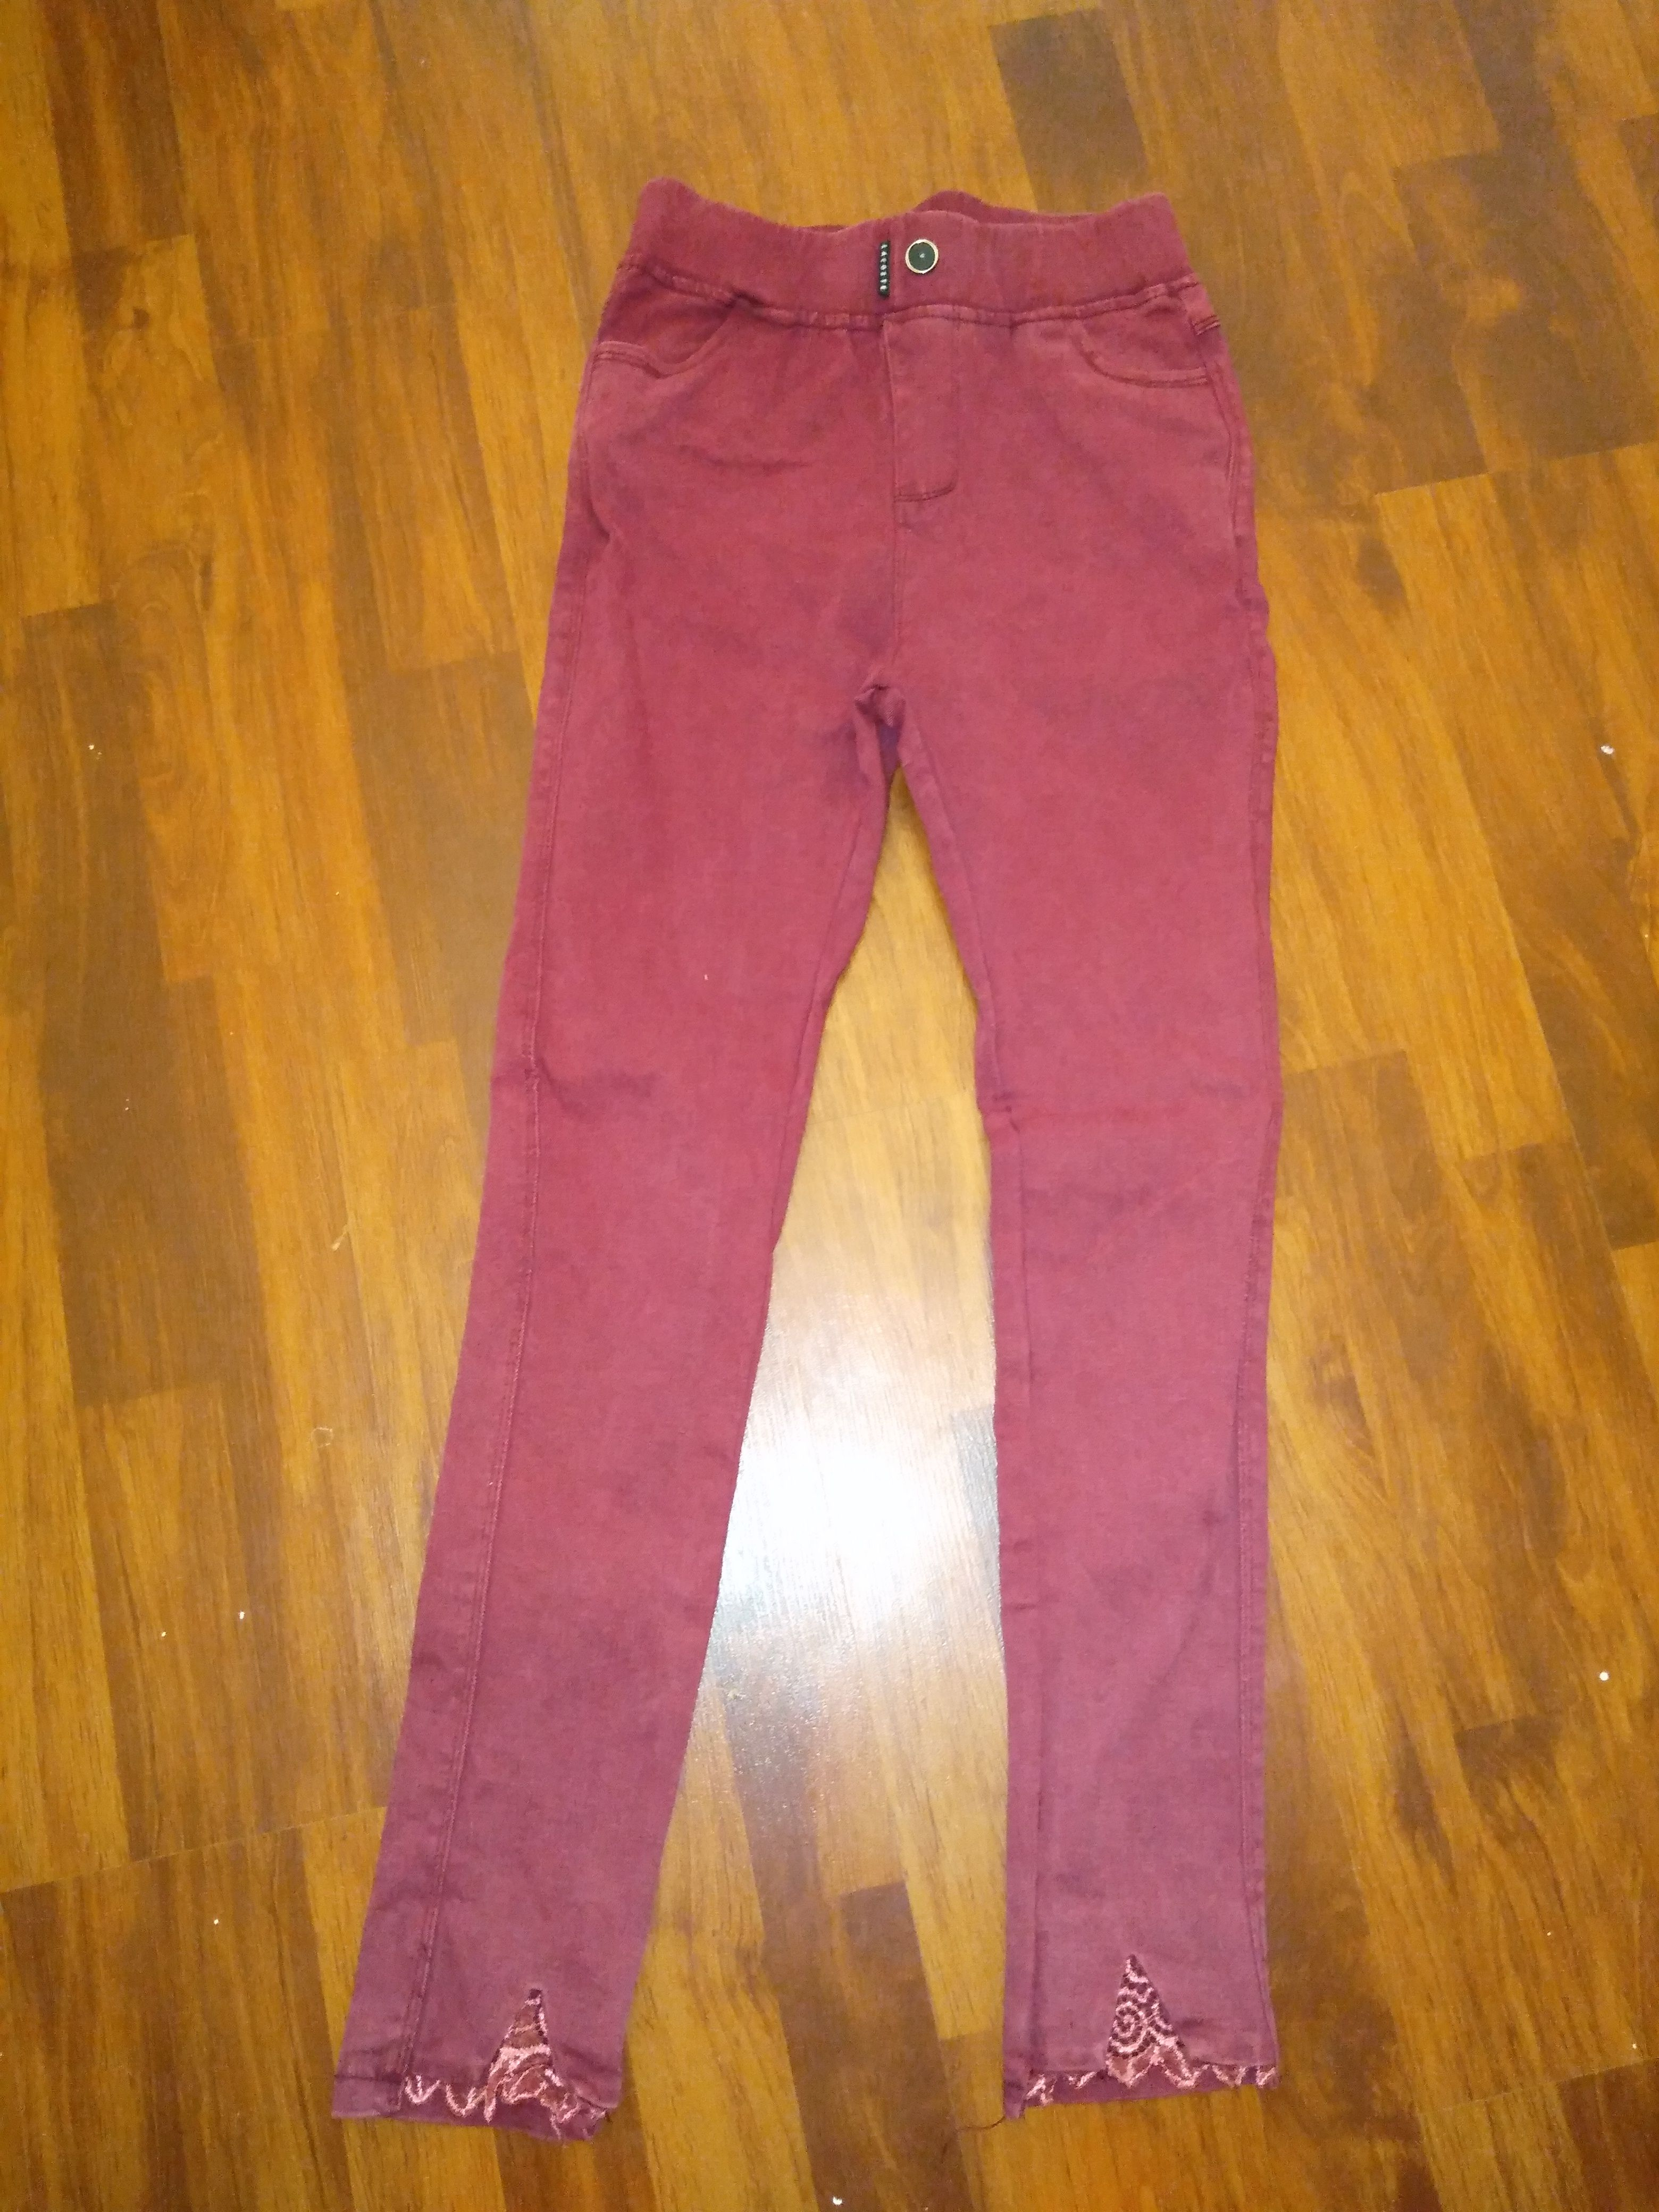clothes: (321, 179, 1307, 2111)
